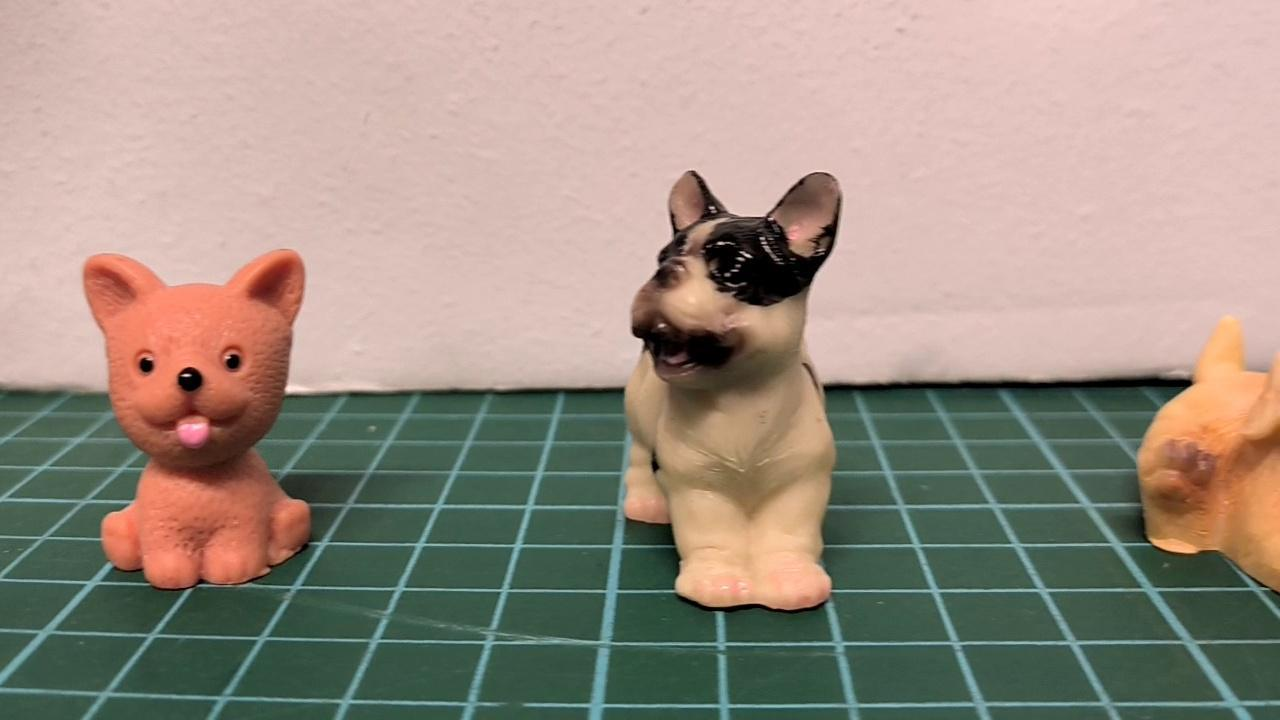pet: (608, 160, 844, 619), (79, 251, 319, 596)
